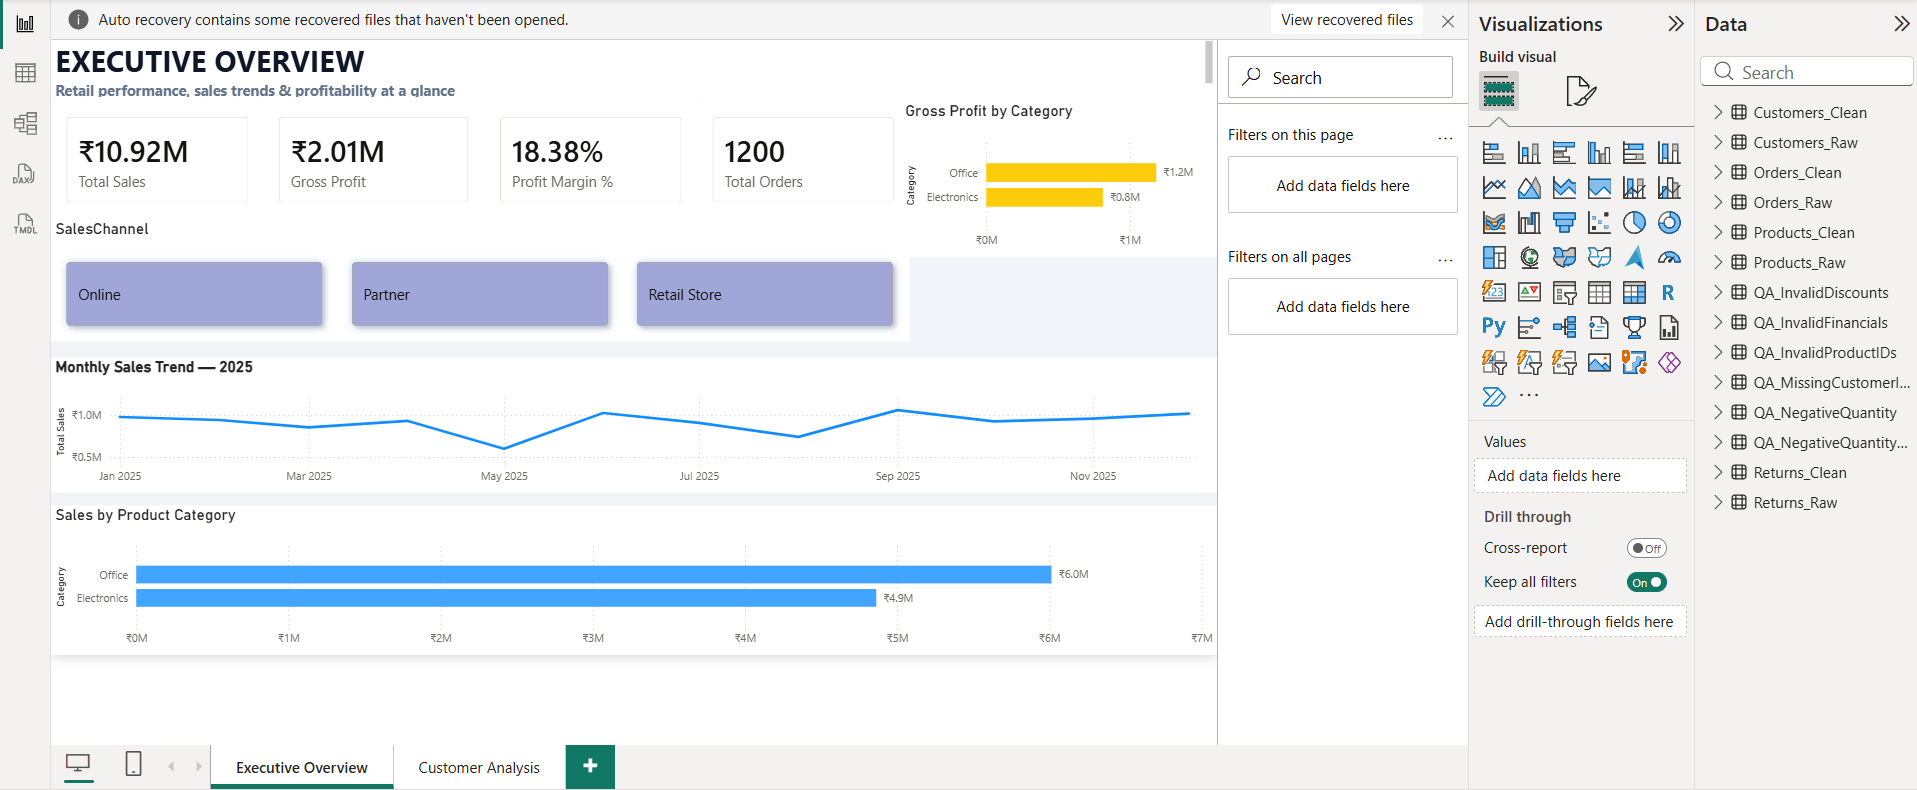

The dashboard page shown, as its layout file describes it:
{"tool":"powerbi","page":{"name":"Executive Overview","canvas":[1280,720],"ordinal":0},"visuals":[{"type":"cardVisual","fields":{"Data":["Orders_Clean.Total Sales"]},"box":[0,112.5,233.3,129],"z":0},{"type":"cardVisual","fields":{"Data":["Orders_Clean.Gross Profit"]},"box":[233.3,112.5,242.9,129],"z":1000},{"type":"cardVisual","fields":{"Data":["Orders_Clean.Profit Margin %"]},"box":[476.2,112.5,233.3,129],"z":2000},{"type":"cardVisual","fields":{"Data":["Orders_Clean.Total Orders"]},"box":[709.4,112.5,233.3,129],"z":3000},{"type":"lineChart","title":"Monthly Sales Trend — 2025","fields":{"Y":["Orders_Clean.Total Sales"],"Category":["Orders_Clean.OrderDate.Variation.Date Hierarchy.Year","Orders_Clean.OrderDate.Variation.Date Hierarchy.Month"]},"box":[0,393.8,1280.3,148.2],"z":4000},{"type":"clusteredBarChart","title":"Sales by Product Category","fields":{"Category":["Products_Clean.Category"],"Y":["Orders_Clean.Total Sales"]},"box":[0,555.7,1280.3,164.7],"z":5000},{"type":"clusteredBarChart","fields":{"Y":["Orders_Clean.Gross Profit"],"Category":["Products_Clean.Category"]},"box":[933.1,112.5,347.2,170.2],"z":6000},{"type":"advancedSlicerVisual","fields":{"Values":["Orders_Clean.SalesChannel"]},"box":[0,241.5,942.7,134.5],"z":7000},{"type":"textbox","box":[0,41.2,1280.3,71.4],"z":8000}]}

Visuals, with their boxes on the page's 1280x720 design canvas (x1, y1, x2, y2). These are canvas units, not pixel positions in the 1917x790 screenshot, which may show the page scaled, cropped or inside an application window:
cardVisual - Orders_Clean.Total Sales: region(0, 112, 233, 242)
cardVisual - Orders_Clean.Gross Profit: region(233, 112, 476, 242)
cardVisual - Orders_Clean.Profit Margin %: region(476, 112, 710, 242)
cardVisual - Orders_Clean.Total Orders: region(709, 112, 943, 242)
"Monthly Sales Trend — 2025" lineChart: region(0, 394, 1280, 542)
"Sales by Product Category" clusteredBarChart: region(0, 556, 1280, 720)
clusteredBarChart - Orders_Clean.Gross Profit x Products_Clean.Category: region(933, 112, 1280, 283)
advancedSlicerVisual - Orders_Clean.SalesChannel: region(0, 242, 943, 376)
textbox: region(0, 41, 1280, 113)
